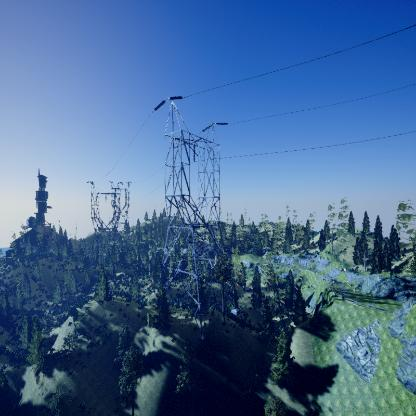tower: (151, 93, 243, 322), (86, 181, 125, 276)
